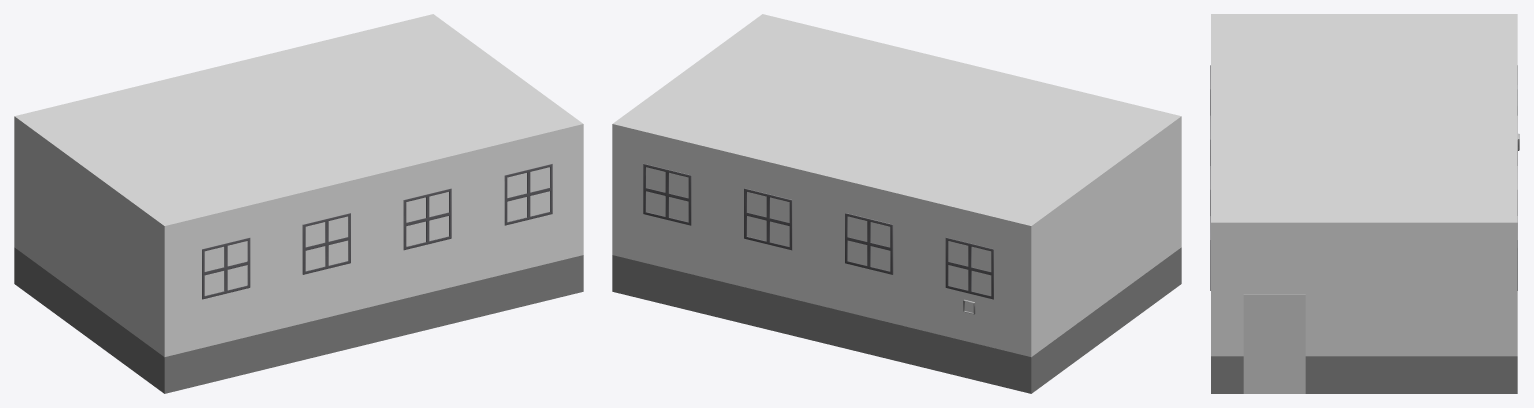
The model's file is 压风系统.glb.
3 renders of one model, left to right at view 1: azimuth 30°, elevation 25°; view 2: azimuth 150°, elevation 25°; view 3: azimuth 270°, elevation 25°, orthographic. The views are drawn at different scales.
Parts seen in each view (by area): view 1: 墙; view 2: 墙; view 3: 墙.
Boxes of the visible parts, <box> form: 墙: <box>14,14,583,393</box>; 墙: <box>612,14,1181,393</box>; 墙: <box>1210,14,1517,393</box>.
Size of the model in its own units: 21.32 by 8.17 by 13.34.
6 materials, 2 textured.
